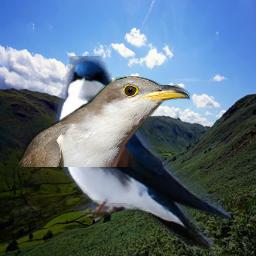Cuckoo: (19, 76, 190, 167)
Swallow: (54, 56, 231, 250)
